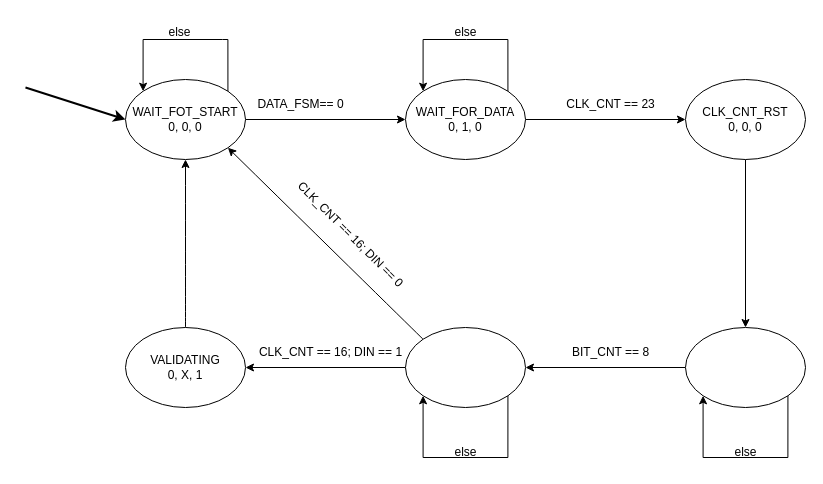
Image size: 823x484. Some labels were removed from this diagram. The shapes that lost their labels are listed below. From the top down, each one's box as (x1, y1, x2, y2) in pixels, then its label:
(404, 326, 526, 408): WAIT_FOR_STOP 0, 1, 0
(684, 326, 806, 408): READING_DATA 1, 1, 0
